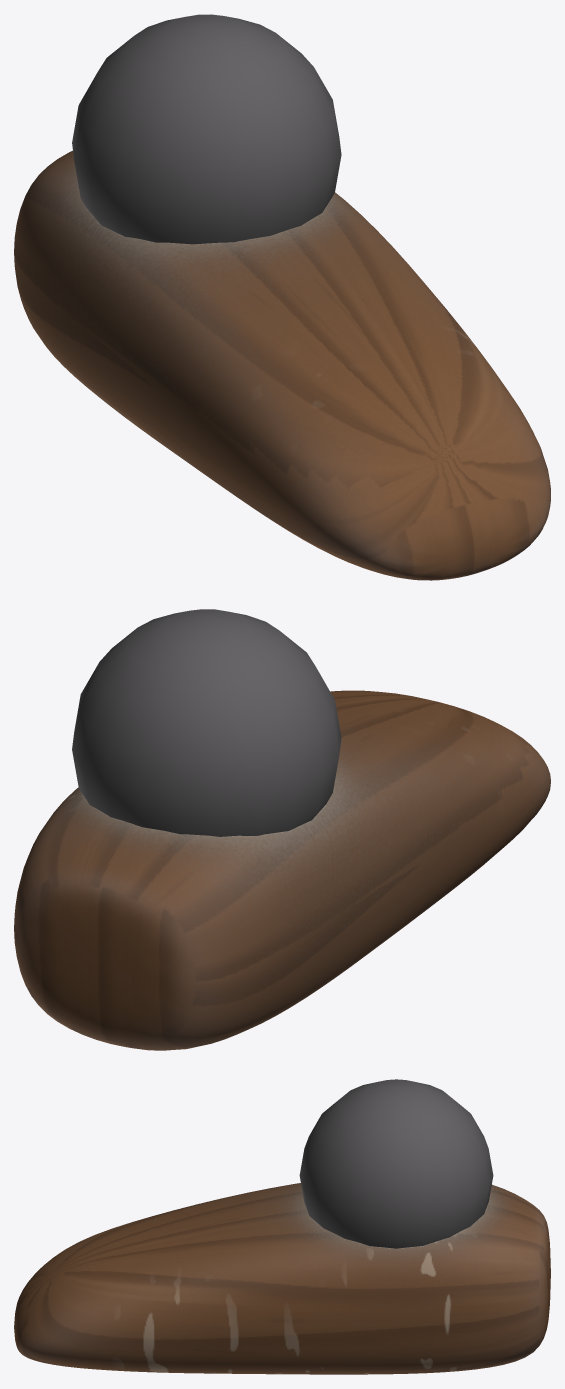
Rendered from Foot_L.glb.
3 views of the same model, one above another, from view 1: azimuth 30°, elevation 25°; view 2: azimuth 150°, elevation 25°; view 3: azimuth 270°, elevation 25° (orthographic). The views are drawn at different scales.
Parts seen in each view (by area): view 1: Foot_L, Foot_L_Ball; view 2: Foot_L, Foot_L_Ball; view 3: Foot_L, Foot_L_Ball.
Part boxes in pixels (x1,y1,x2,y2): Foot_L: (14, 150, 550, 580); Foot_L_Ball: (72, 14, 341, 244); Foot_L: (14, 690, 550, 1050); Foot_L_Ball: (72, 609, 341, 836); Foot_L: (14, 1183, 550, 1374); Foot_L_Ball: (299, 1079, 493, 1248).
Size of the model in its own units: 0.103 by 0.1356 by 0.2494.
Materials: 2 (1 with a texture image).
